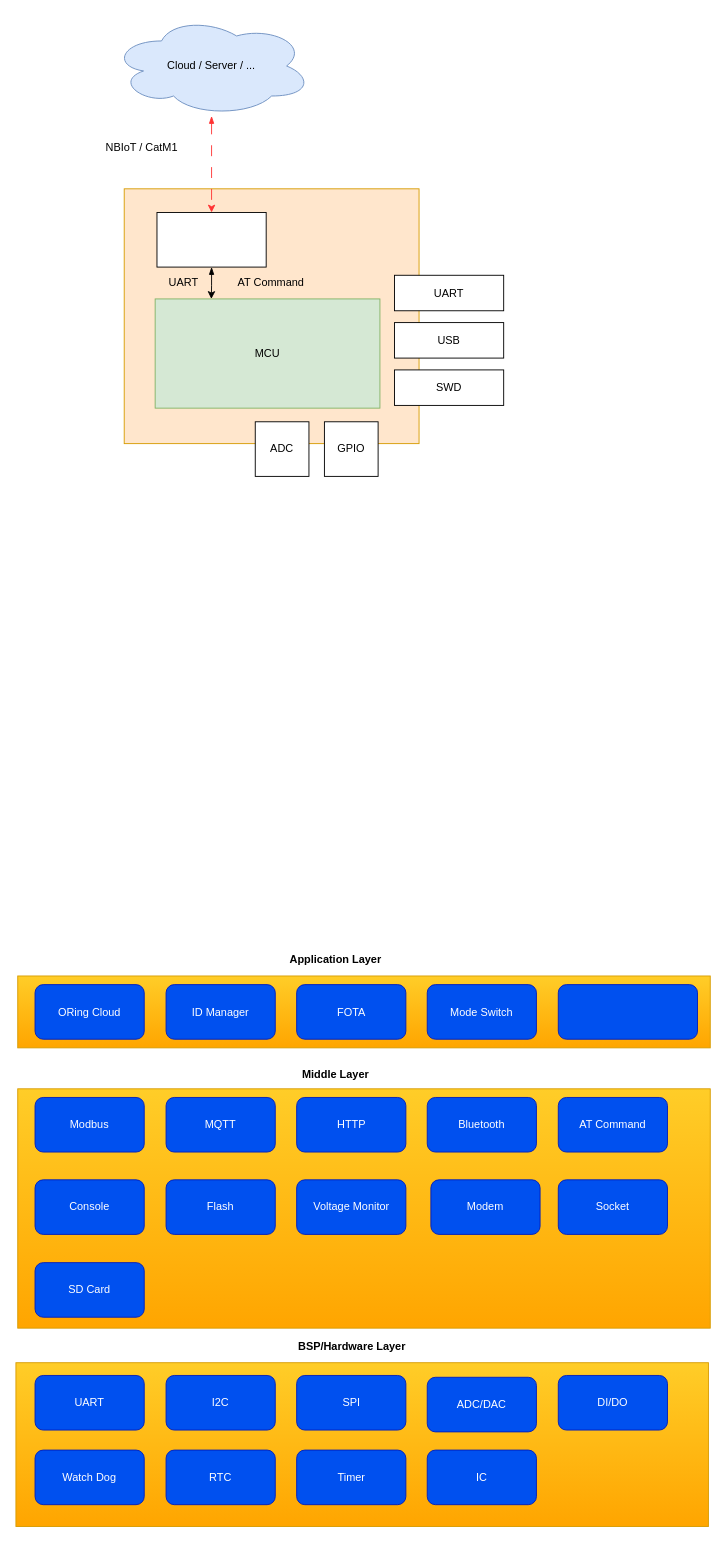
The diagram is 726 pixels wide and 1542 high, and some of its shapes have lost their labels. Each missing label, with the centre of its shape:
"Module" goes at point (211, 239).
"Package Transmission" goes at point (627, 1011).
